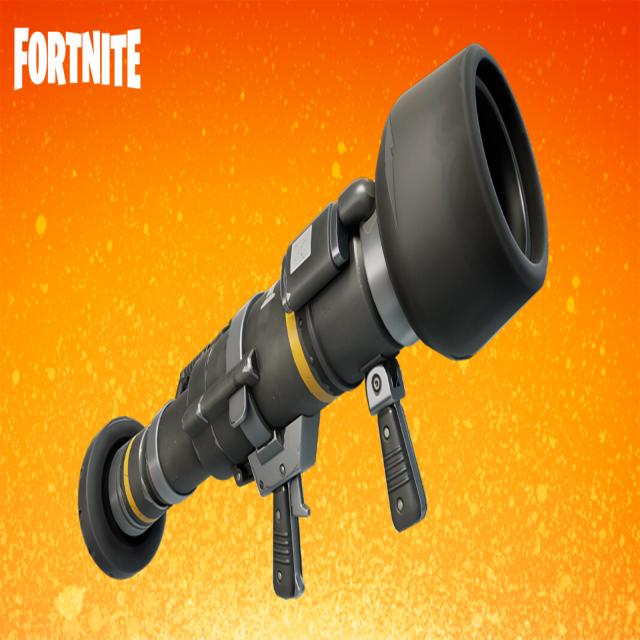bazooka: (62, 25, 587, 616)
